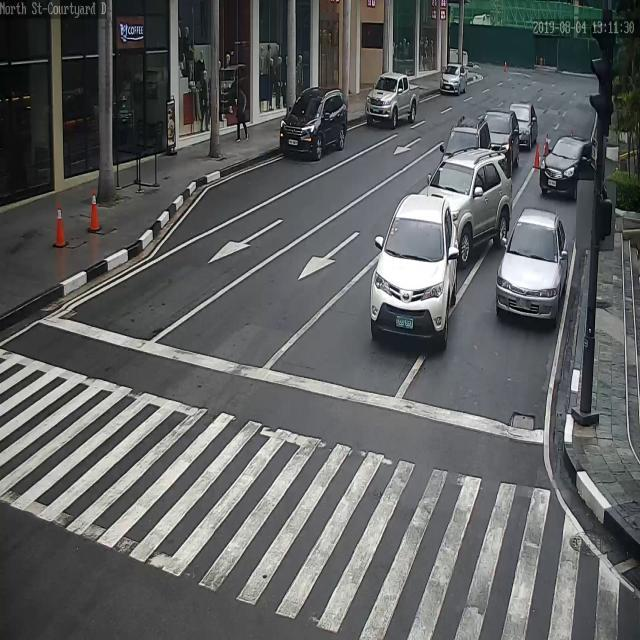car: (372, 193, 463, 346), (422, 148, 515, 258), (497, 205, 572, 322), (280, 86, 351, 161), (539, 137, 599, 196), (365, 74, 420, 129), (478, 107, 521, 164), (441, 122, 489, 167), (508, 104, 539, 148), (440, 63, 470, 95)
